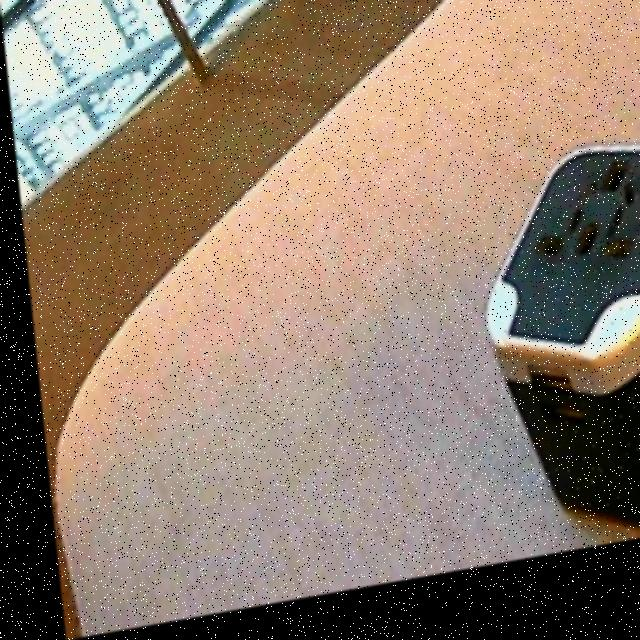adapter: (461, 152, 640, 570)
